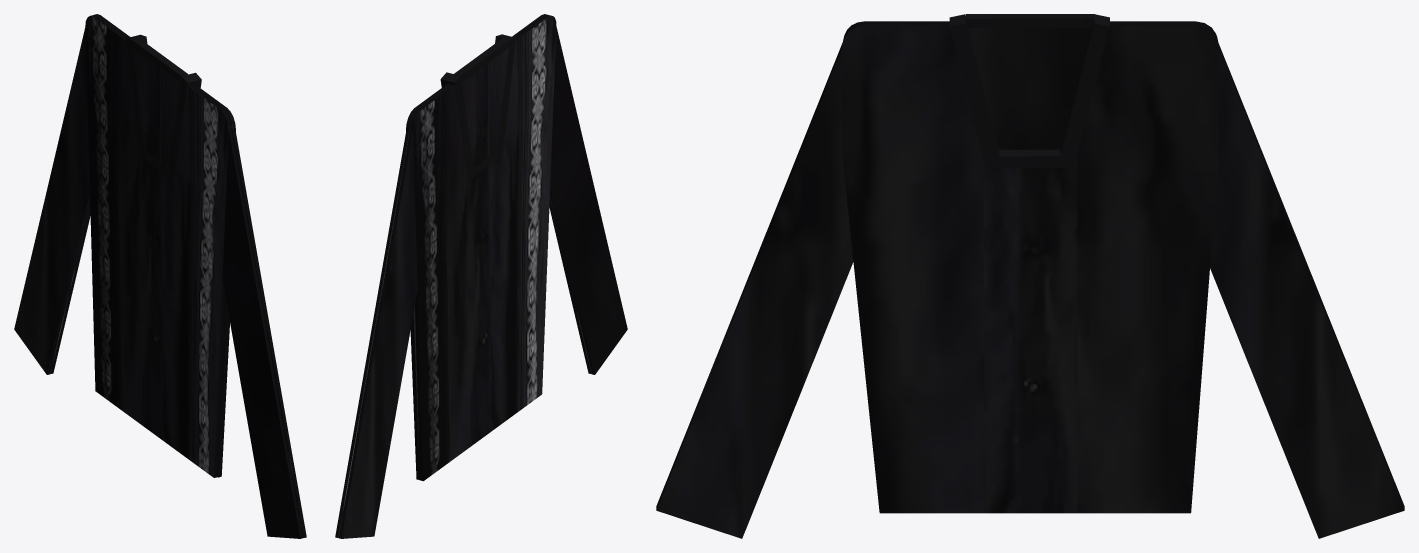
File: Guayabera1_4.obj
3 renders of one model, left to right at view 1: azimuth 30°, elevation 25°; view 2: azimuth 150°, elevation 25°; view 3: azimuth 270°, elevation 25°, orthographic. The views are drawn at different scales.
Visible parts, largest first — view 1: Guayabera1; view 2: Guayabera1; view 3: Guayabera1.
Boxes of the visible parts, bbox=[...] form: Guayabera1: bbox=[14, 14, 306, 538]; Guayabera1: bbox=[335, 14, 627, 538]; Guayabera1: bbox=[656, 14, 1404, 538].
Size of the model in its own units: 0.0201 by 0.5339 by 0.6959.
Materials: 1 (1 with a texture image).
